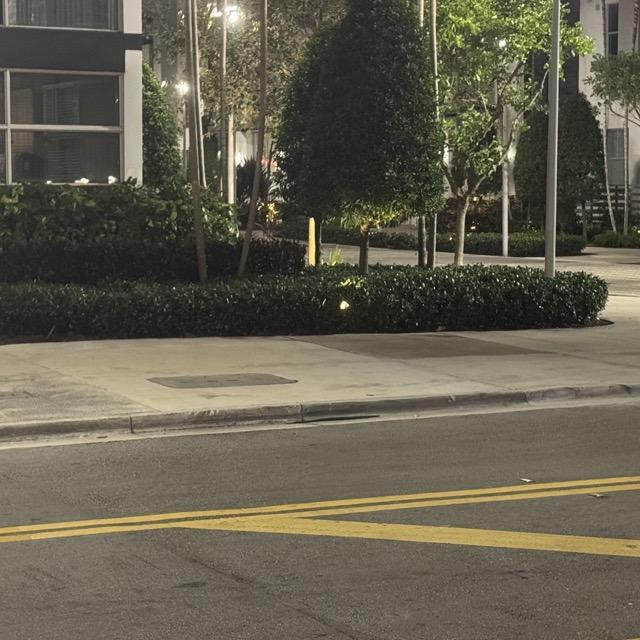curb: (0, 385, 639, 442)
